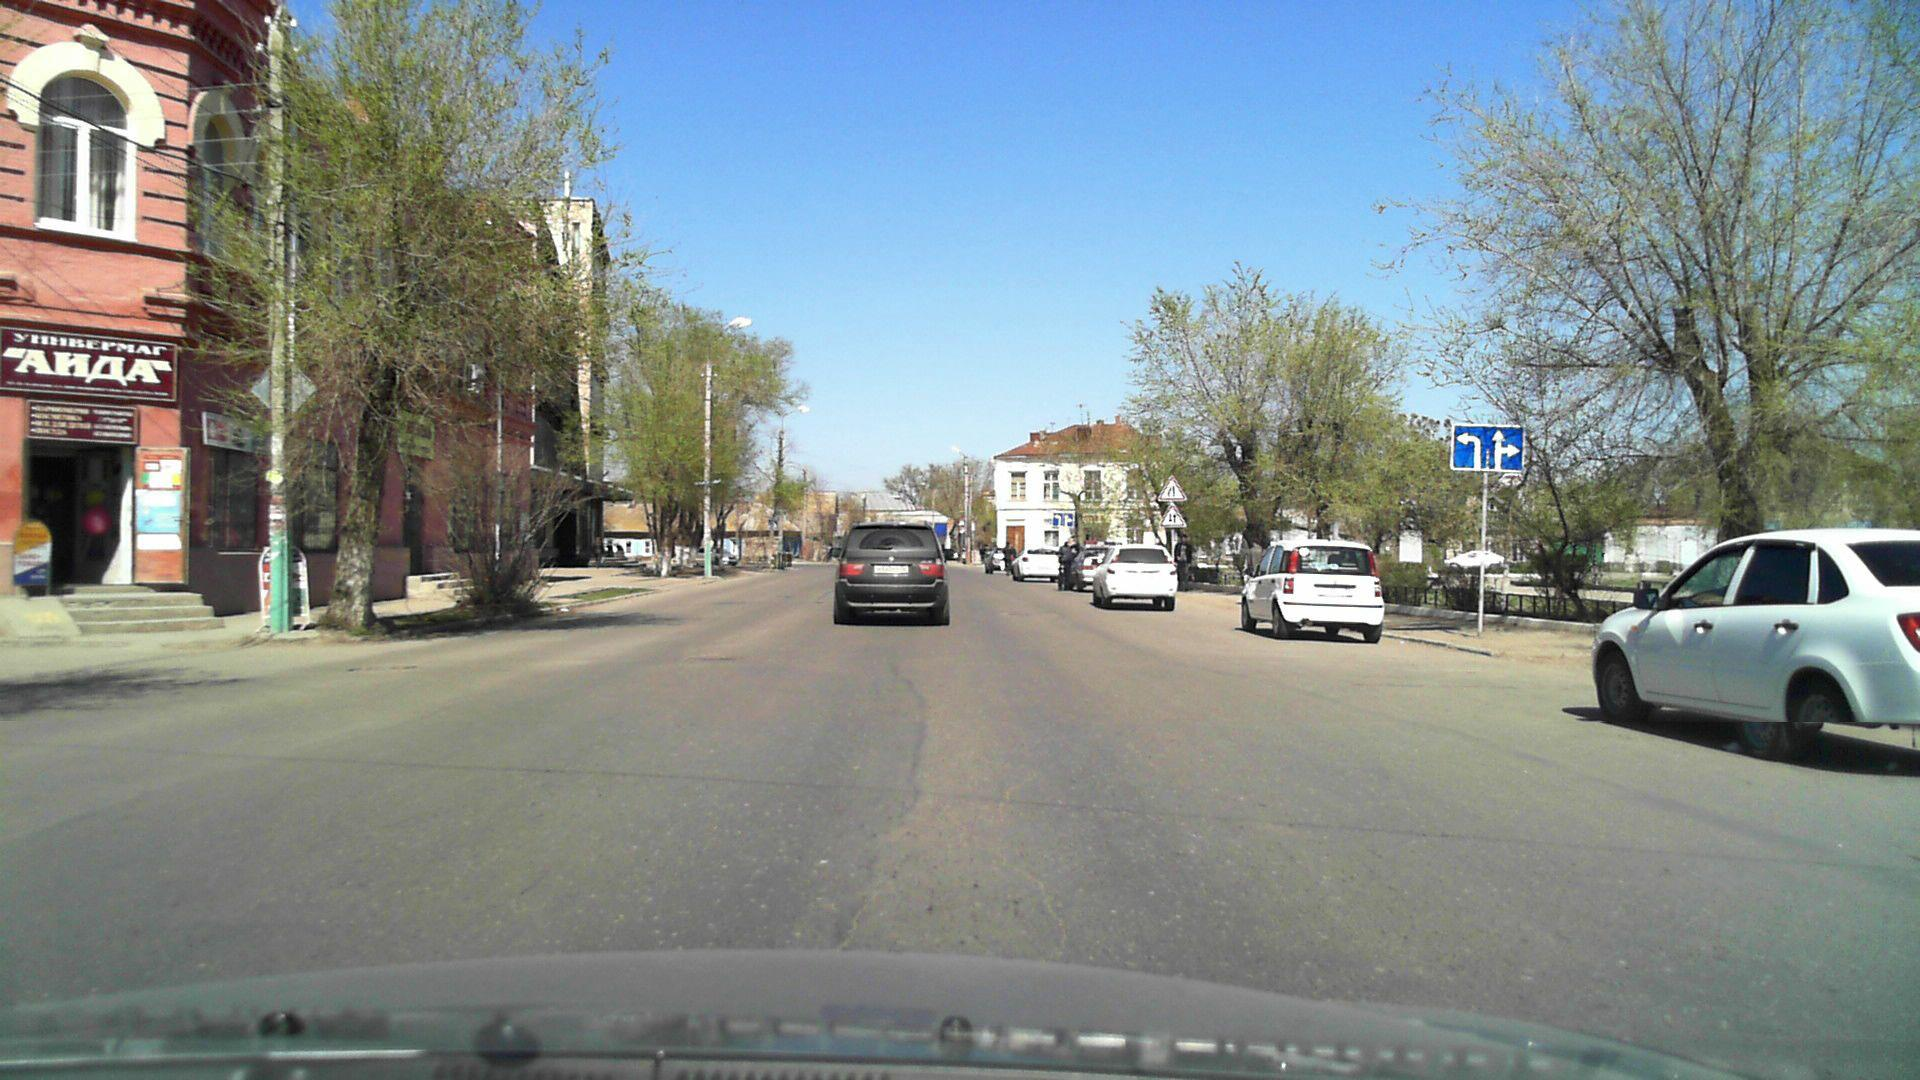1_20_3: (1156, 475, 1189, 502)
1_21: (1156, 502, 1191, 529)
5_15_1: (1447, 418, 1534, 473)
